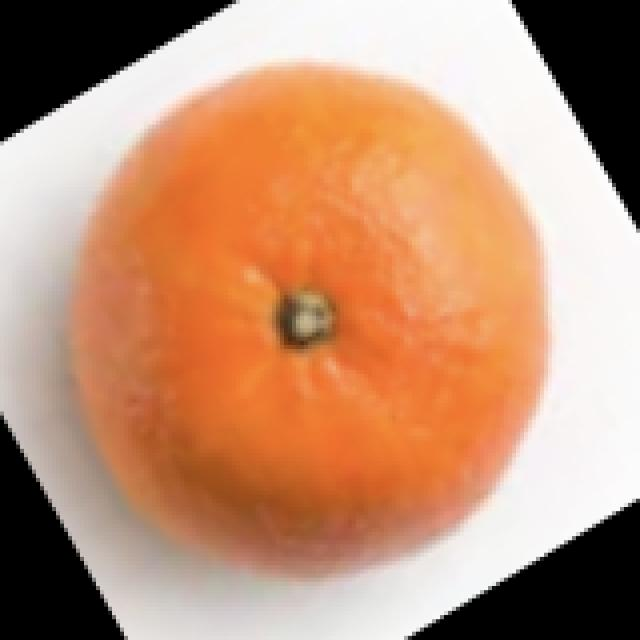matang: (78, 75, 535, 573)
